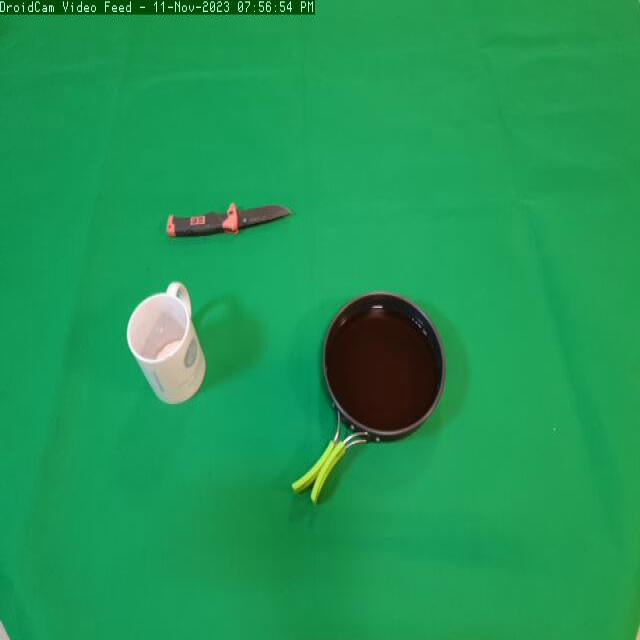cup: (121, 278, 208, 422)
fullpan: (287, 288, 448, 522)
knife: (160, 190, 300, 246)
